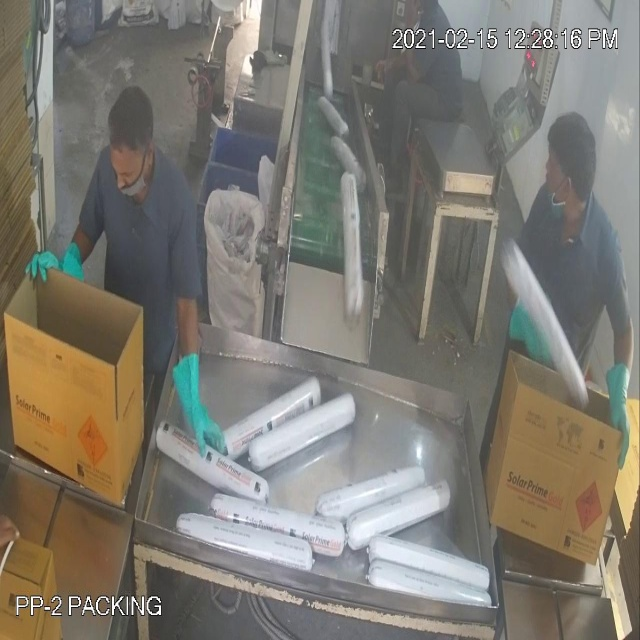Guantes: (164, 334, 241, 469), (19, 221, 95, 306), (597, 352, 636, 486)
